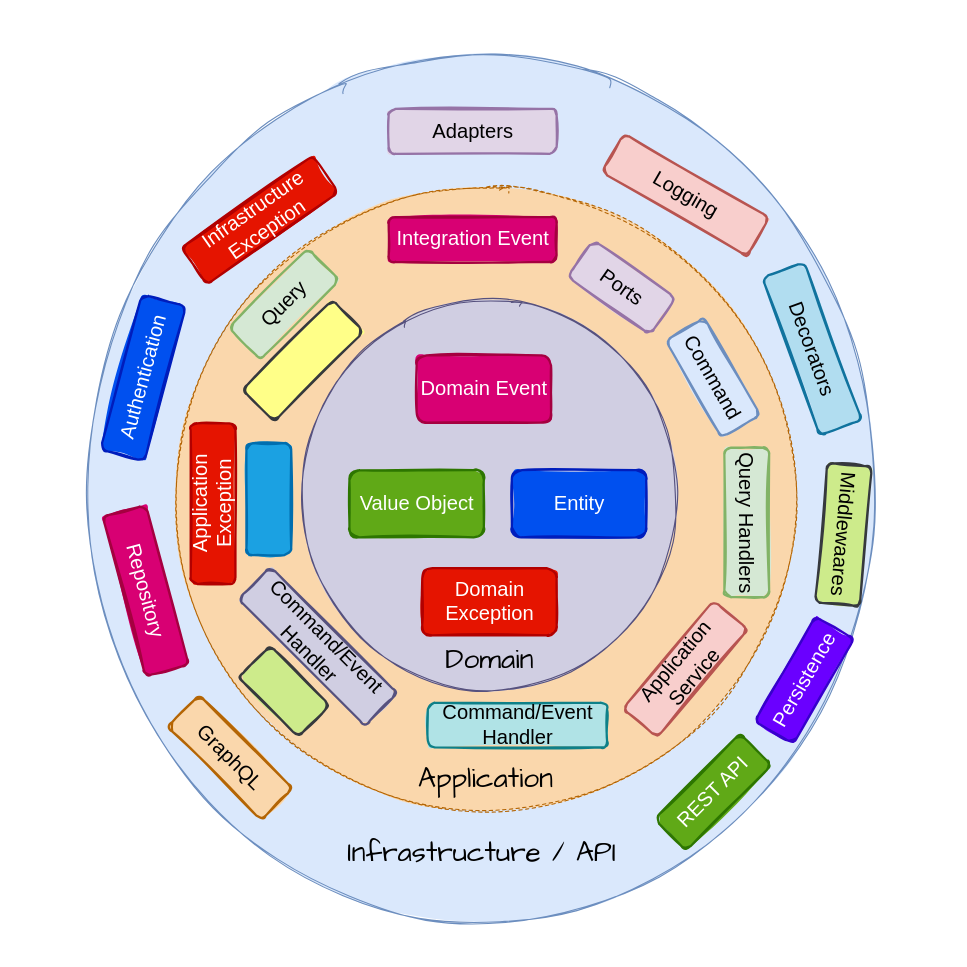
Image size: 967x967. Some labels were removed from this diagram. Each missing label, with the centre of its shape:
Dto: [284,691]
Specification: [302,360]
Validator: [268,498]
